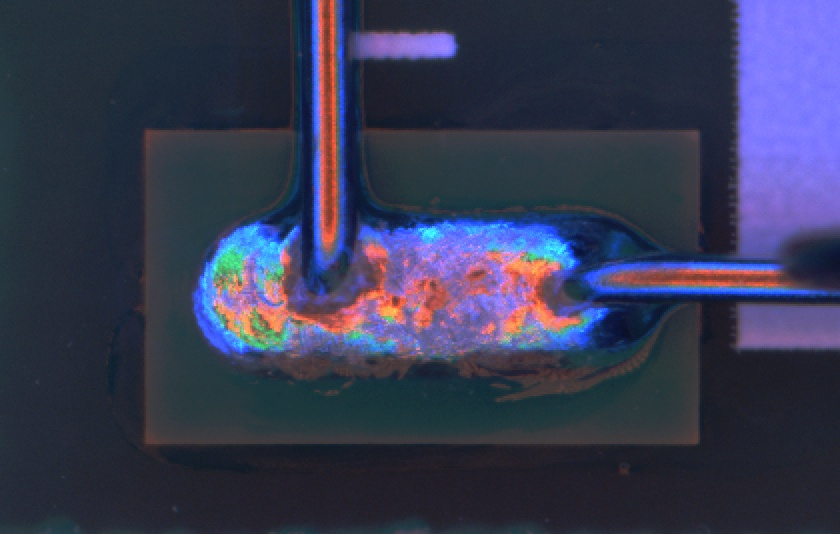spring: (289, 1, 367, 308), (556, 238, 840, 310)
spring_pin: (193, 218, 670, 383)
